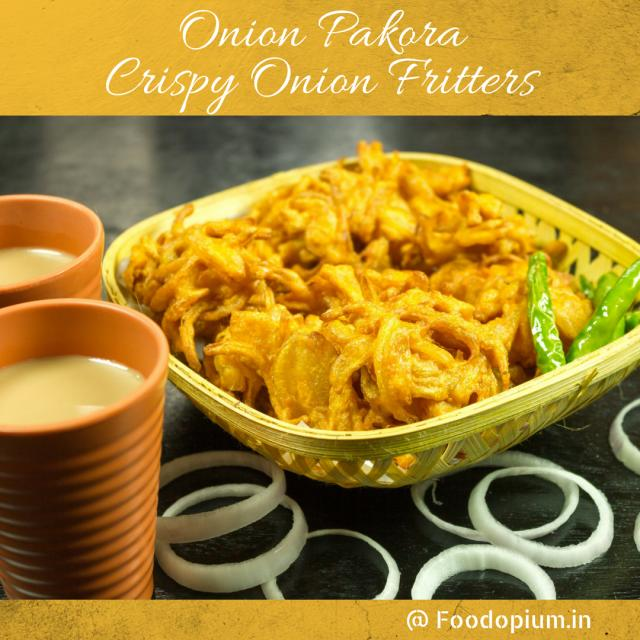BAJI: (247, 142, 536, 368), (204, 289, 511, 428), (121, 204, 320, 369)
